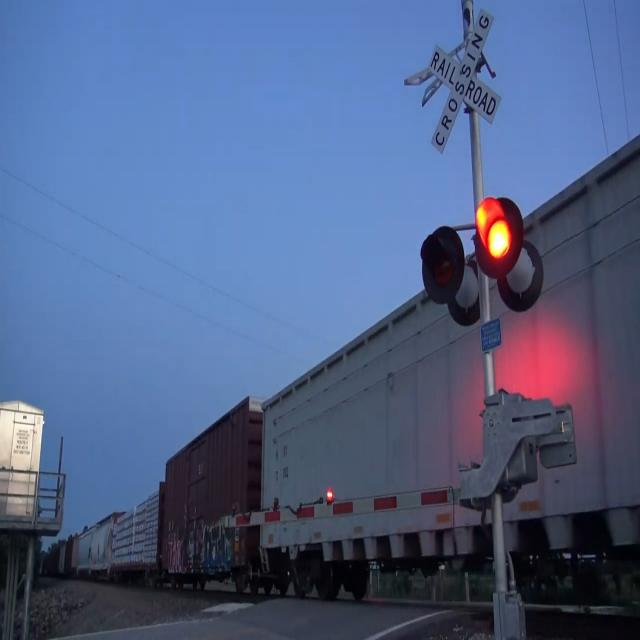boxcar: (155, 382, 262, 605)
gondola: (257, 126, 640, 618)
